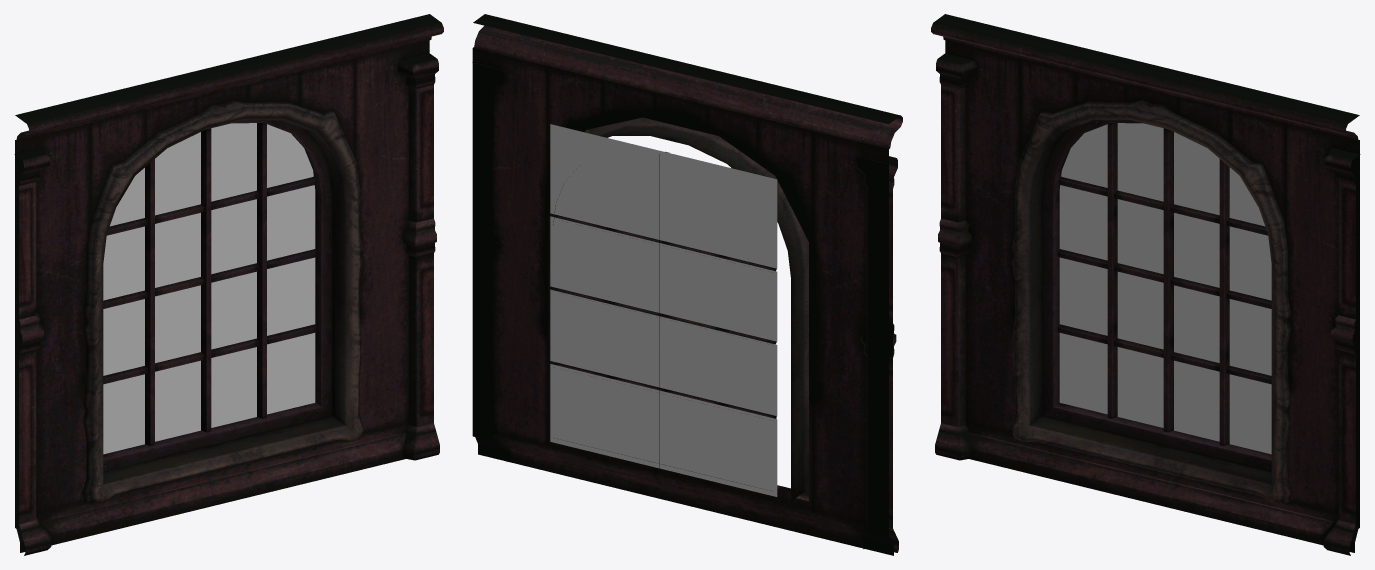
Rendered from 42_window02_large_blue.dae.
3 renders of one model, left to right at view 1: azimuth 30°, elevation 25°; view 2: azimuth 150°, elevation 25°; view 3: azimuth 330°, elevation 25°, orthographic.
Visible parts, largest first — view 1: window02_large_blue1, window02_large_frame3, window02_large_glass_yellow5; view 2: window02_large_blue1, window02_large_glass_yellow5, window02_large_frame3; view 3: window02_large_blue1, window02_large_frame3, window02_large_glass_yellow5.
Part boxes in pixels (x1,y1,x2,y2): window02_large_blue1: (14,14,443,555); window02_large_frame3: (82,100,363,504); window02_large_glass_yellow5: (103,123,315,454); window02_large_blue1: (472,14,902,555); window02_large_glass_yellow5: (550,124,777,496); window02_large_frame3: (540,110,820,514); window02_large_blue1: (931,14,1360,555); window02_large_frame3: (1011,100,1292,504); window02_large_glass_yellow5: (1059,123,1271,454).
Size of the model in its own units: 4 by 4 by 0.5209.
